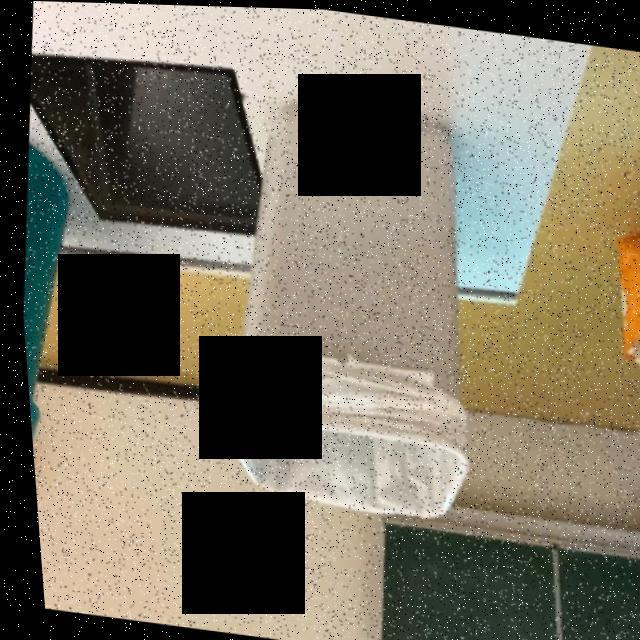bin: (190, 72, 510, 548), (8, 135, 83, 489)
